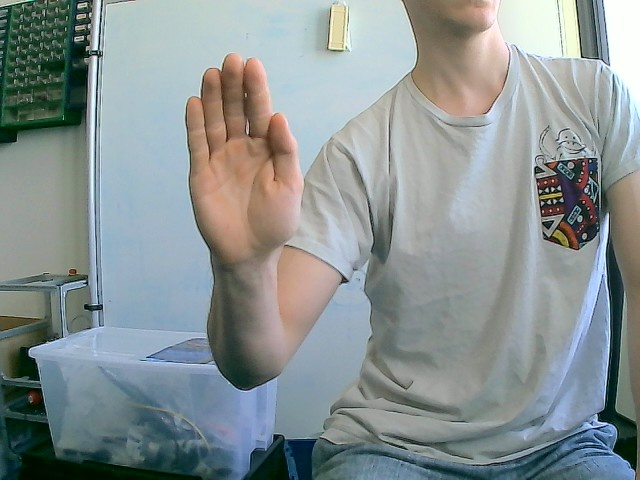stop: (184, 52, 306, 265)
